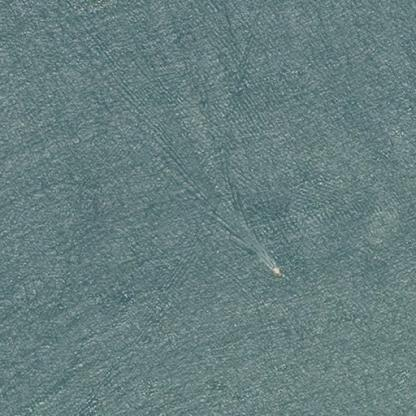ship: (266, 260, 286, 278)
